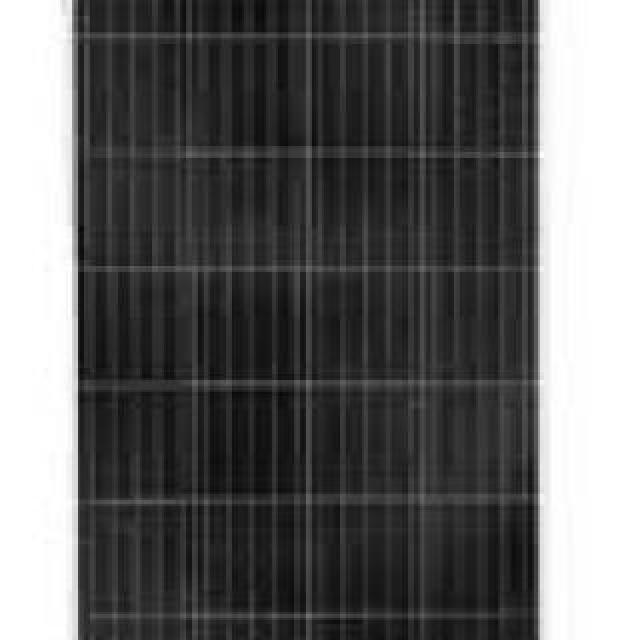Physical-damage: (185, 150, 530, 610)
